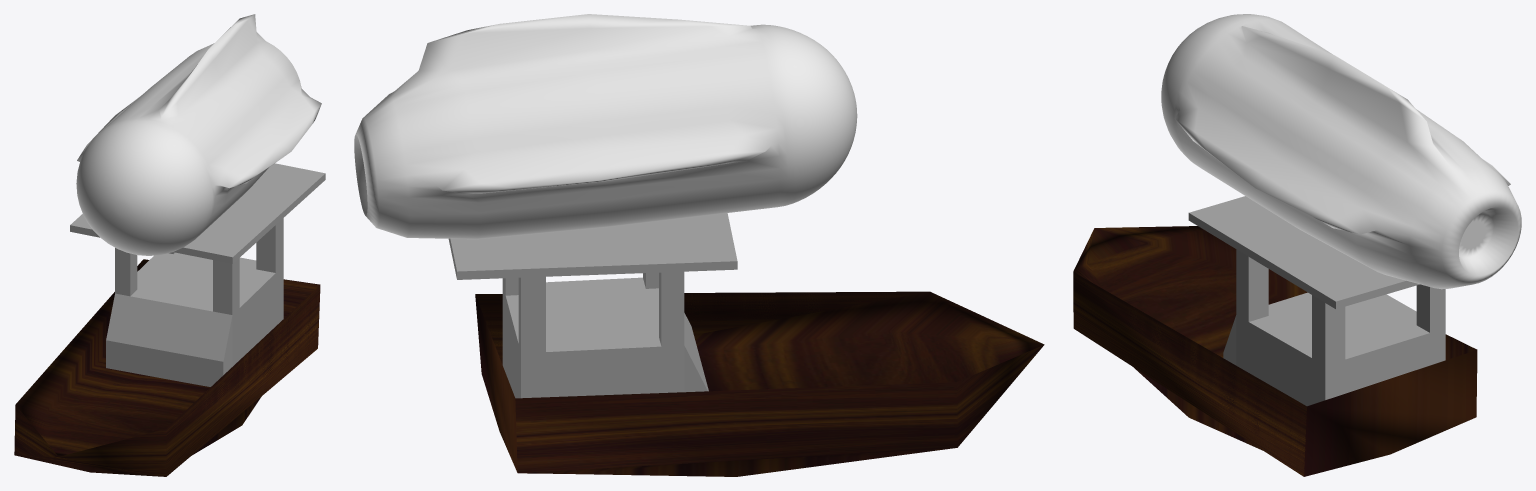
The model's file is Airship.fbx.
3 views of the same model, side by side, from view 1: azimuth 30°, elevation 25°; view 2: azimuth 150°, elevation 25°; view 3: azimuth 270°, elevation 25° (orthographic). The views are drawn at different scales.
Parts seen in each view (by area): view 1: pCube42; view 2: pCube42; view 3: pCube42.
Part boxes in pixels (x1=…): pCube42: x1=14, y1=14, x2=325, y2=476; pCube42: x1=354, y1=14, x2=1044, y2=476; pCube42: x1=1073, y1=14, x2=1521, y2=476.
Bounding box in the file's own units: 16.64 × 13.98 × 14.4.
